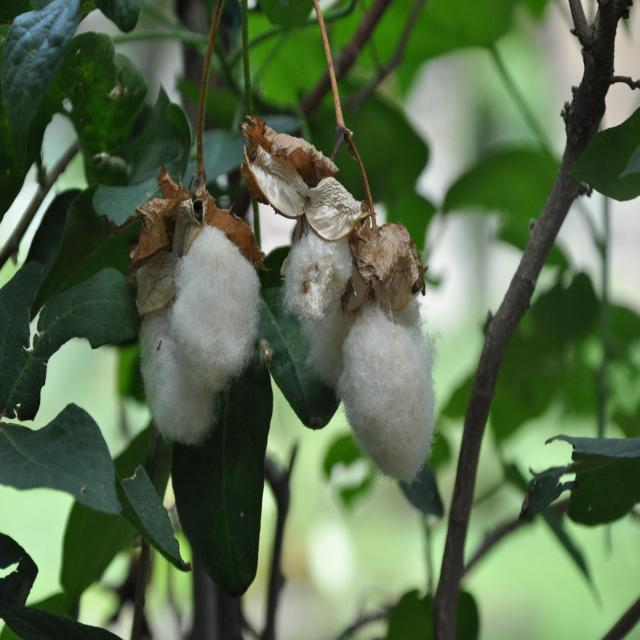Early_blight: (119, 162, 273, 464), (332, 252, 444, 501), (271, 192, 366, 352)
